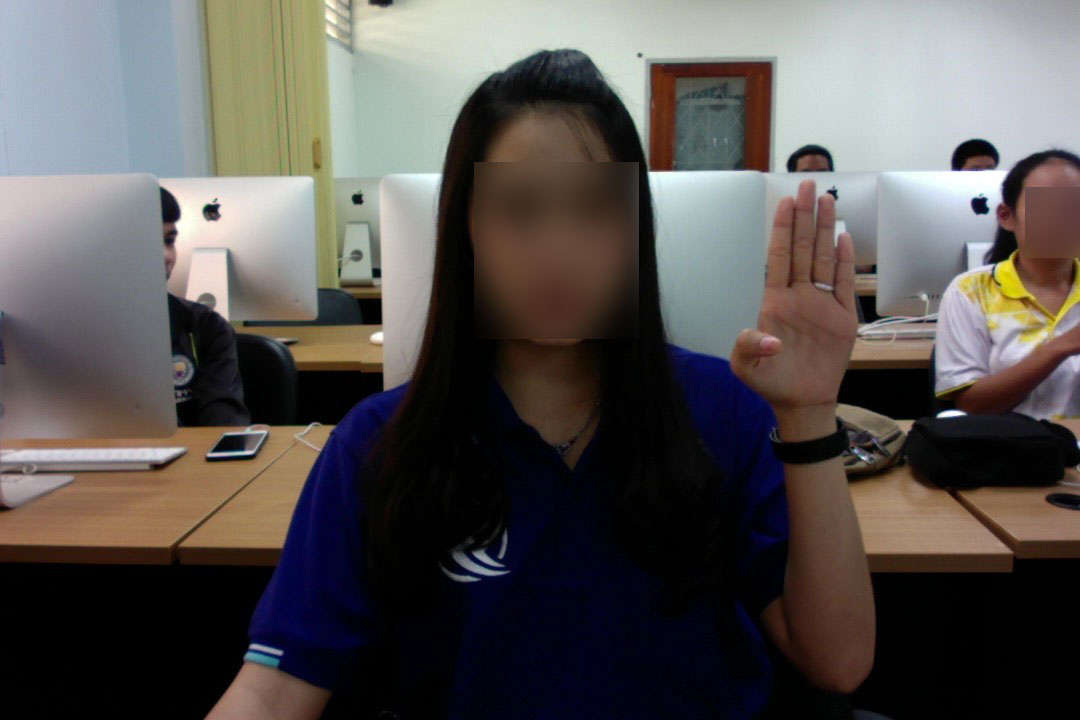bor: (717, 173, 880, 436)
